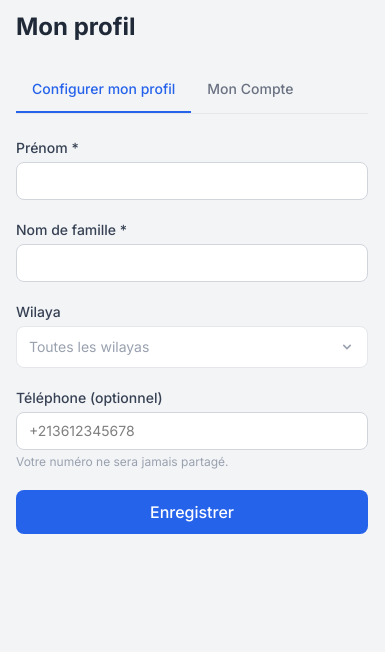
it: shows a sign-out control on the account tab
Click the tab "Mon Compte" at (250, 90), box [191,67,309,113]
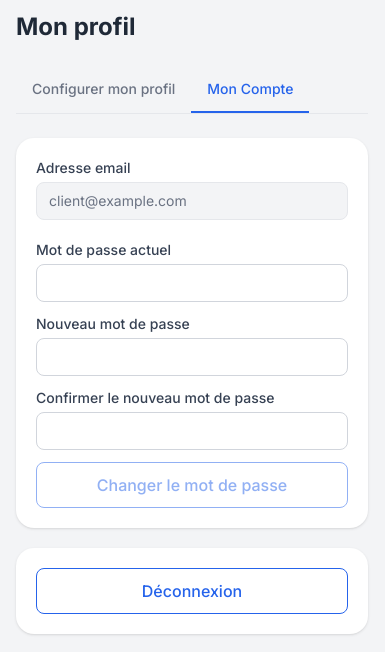
Check: the button "Déconnexion" is shown, box [36,568,348,614]
